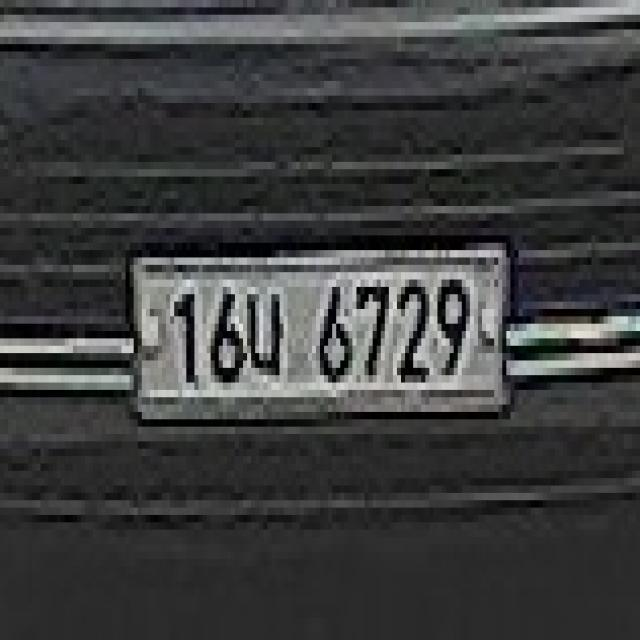1: (162, 272, 207, 405)
2: (393, 265, 433, 397)
6: (207, 272, 251, 397), (312, 272, 356, 390)
7: (352, 272, 397, 390)
9: (433, 265, 478, 397)
license_plate: (118, 228, 526, 434)
na: (247, 279, 296, 390)
